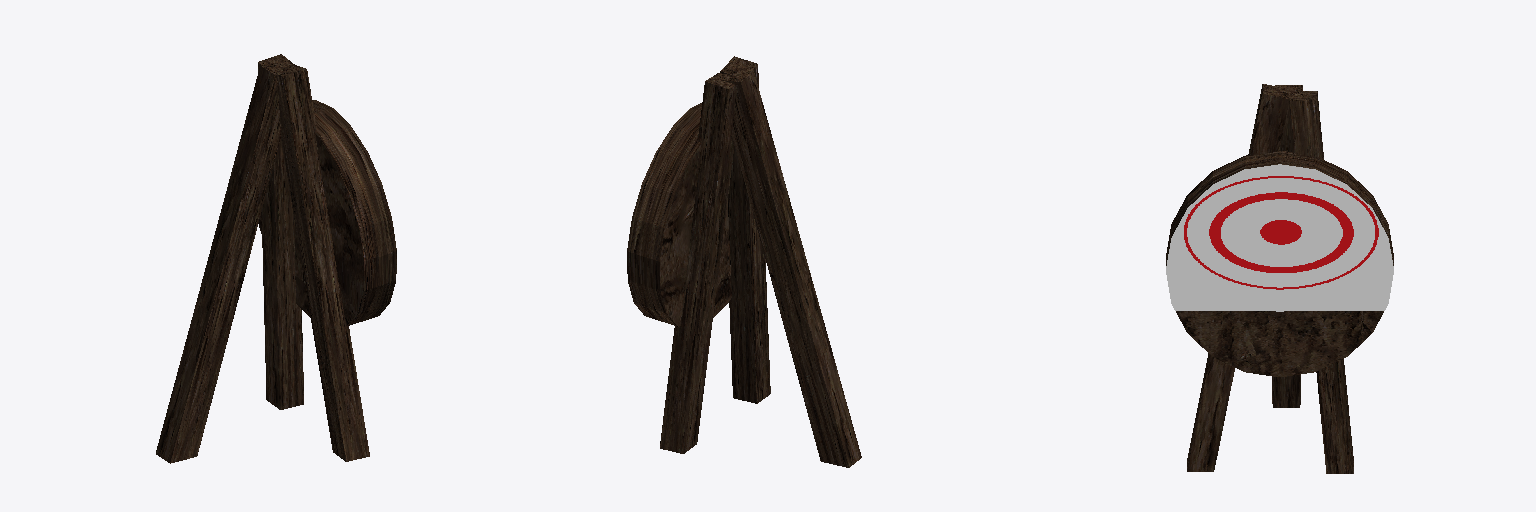
3 views of the same model, side by side, from view 1: azimuth 30°, elevation 25°; view 2: azimuth 150°, elevation 25°; view 3: azimuth 270°, elevation 25° (orthographic).
Parts seen in each view (by area): view 1: polySurface1; view 2: polySurface1; view 3: polySurface1.
Part boxes in pixels (x1,y1,x2,y2): polySurface1: (156,54,396,463); polySurface1: (627,56,861,467); polySurface1: (1166,84,1393,473).
Bounding box in the file's own units: 16.09 × 30.97 × 17.54.
Materials: 1 (1 with a texture image).